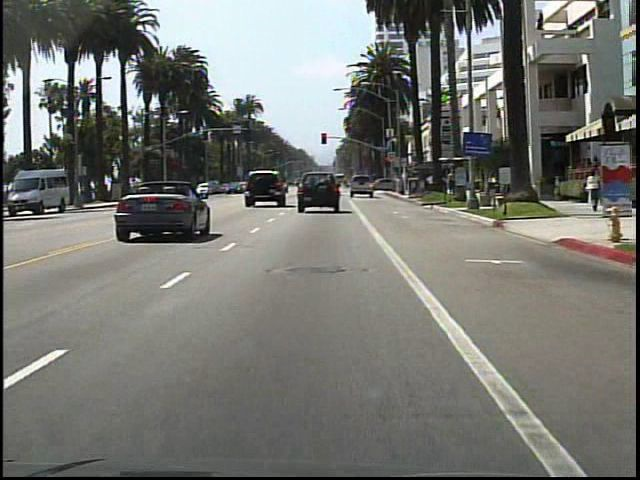person: (582, 169, 599, 217), (425, 170, 438, 195)
